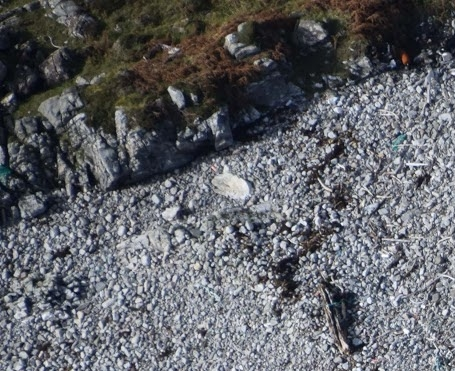straight_bar: (314, 277, 356, 356)
white_in_green: (376, 120, 422, 160), (386, 37, 427, 79)
